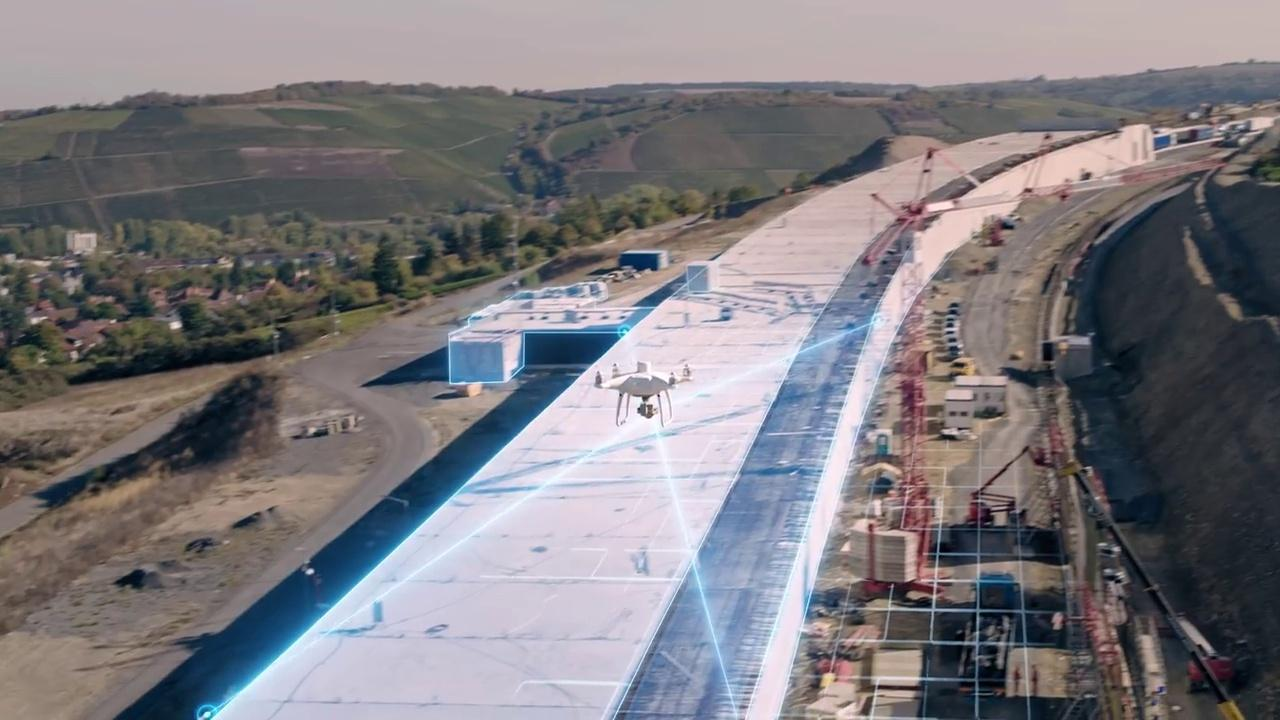drone: (590, 357, 697, 428)
